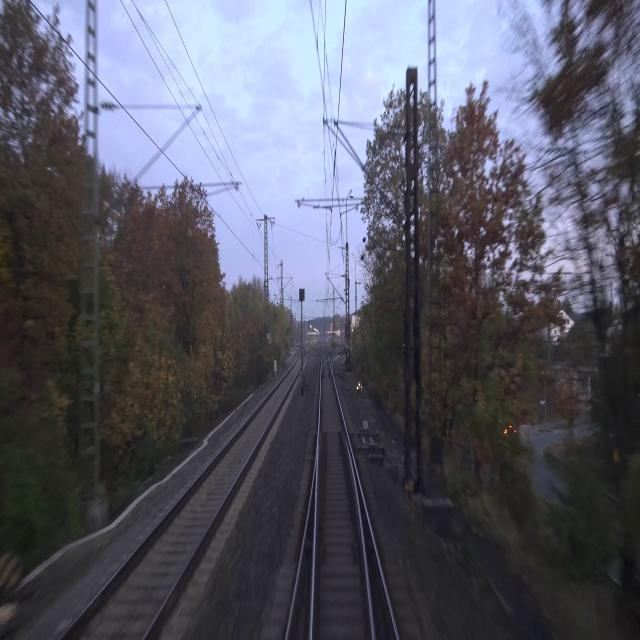rail-track: (64, 356, 301, 639), (315, 364, 370, 639), (361, 502, 395, 639), (289, 500, 313, 639)
